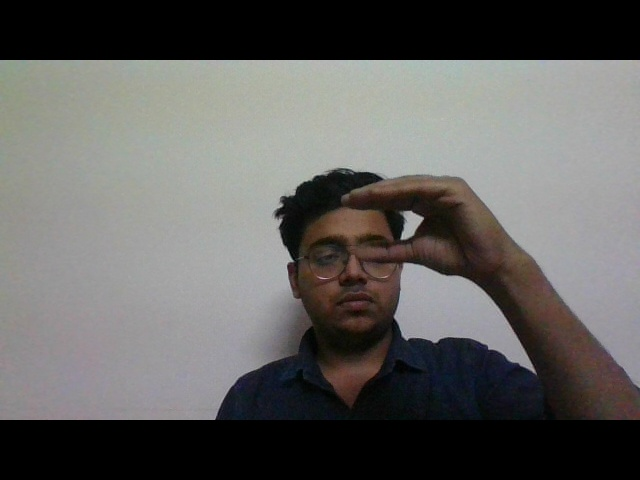no: (317, 170, 564, 286)
